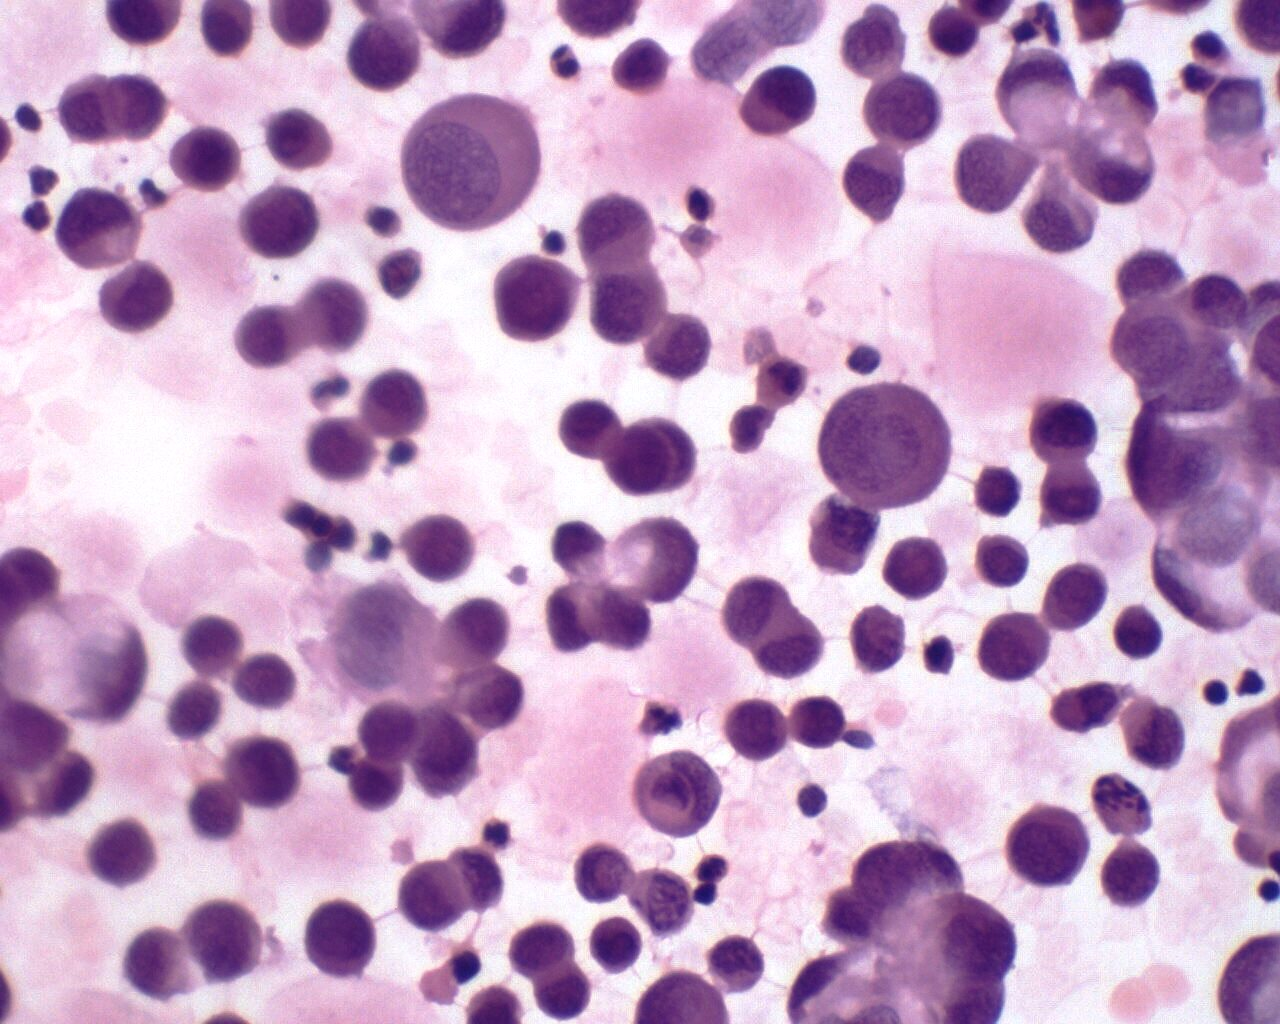ab: (816, 383, 955, 509), (1001, 797, 1094, 891), (493, 250, 581, 346), (608, 410, 700, 501), (57, 185, 144, 273), (586, 266, 671, 349), (952, 130, 1030, 217), (237, 184, 320, 262), (859, 70, 945, 145), (305, 895, 379, 980), (401, 510, 479, 590), (223, 731, 305, 807), (977, 609, 1054, 686), (348, 15, 424, 92), (169, 123, 245, 199), (740, 64, 818, 136), (646, 311, 719, 382), (1040, 557, 1109, 632), (1023, 397, 1100, 463), (1099, 840, 1164, 907), (502, 918, 577, 976), (884, 533, 949, 599), (724, 697, 786, 764), (530, 965, 595, 1024), (974, 528, 1030, 590)
lymph: (793, 778, 837, 819), (1200, 675, 1236, 708)
neutro: (544, 40, 583, 86), (17, 199, 56, 236)
